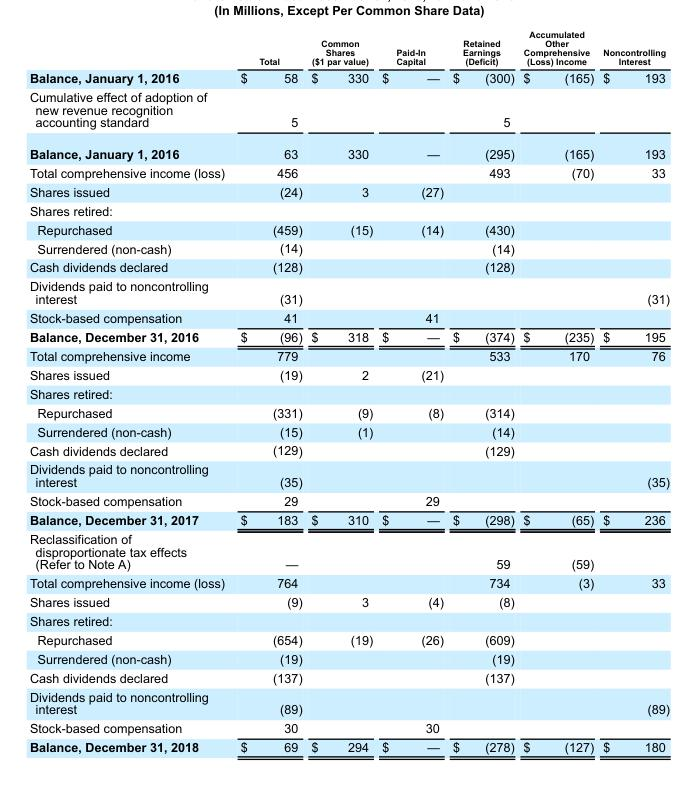table: (28, 29, 669, 753)
table column: (28, 29, 231, 753), (518, 29, 597, 753), (231, 29, 306, 753), (597, 29, 669, 753), (376, 29, 447, 753), (447, 29, 518, 753), (306, 29, 376, 753)
table column header: (28, 29, 669, 68)
table projected row header: (28, 200, 669, 219), (28, 383, 669, 402), (28, 611, 669, 630)
table row: (28, 87, 669, 137), (28, 529, 669, 573), (28, 29, 669, 68), (28, 276, 669, 308), (28, 459, 669, 491), (28, 686, 669, 718), (28, 137, 669, 162), (28, 68, 669, 87), (28, 162, 669, 181), (28, 181, 669, 200), (28, 200, 669, 219), (28, 219, 669, 238), (28, 238, 669, 257), (28, 257, 669, 276), (28, 308, 669, 327), (28, 327, 669, 346), (28, 364, 669, 383), (28, 383, 669, 402), (28, 402, 669, 421), (28, 421, 669, 440), (28, 440, 669, 459), (28, 491, 669, 510), (28, 510, 669, 529), (28, 573, 669, 592), (28, 592, 669, 611), (28, 611, 669, 630), (28, 630, 669, 649), (28, 667, 669, 686), (28, 718, 669, 737), (28, 346, 669, 364), (28, 649, 669, 667), (28, 737, 669, 753)
